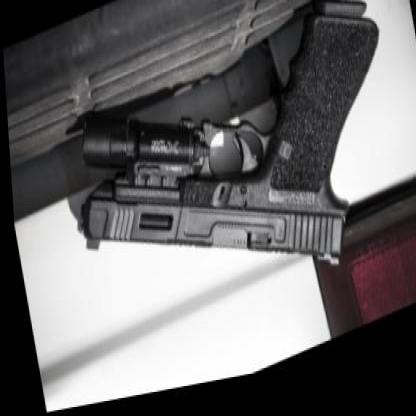pistol: (50, 0, 415, 381)
